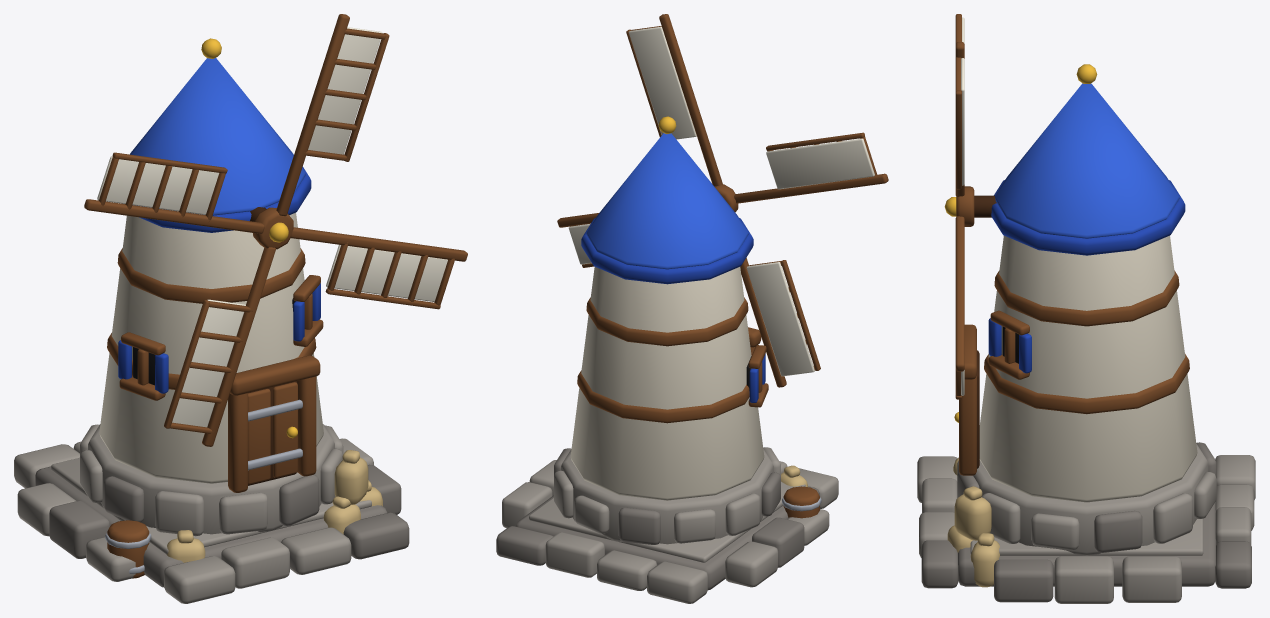
The model's file is Mill.glb.
The picture shows the model from 3 angles, left to right: view 1: azimuth 30°, elevation 25°; view 2: azimuth 150°, elevation 25°; view 3: azimuth 270°, elevation 25°; orthographic projection. The views are drawn at different scales.
Visible parts, largest first — view 1: Mill; view 2: Mill; view 3: Mill.
Part boxes in pixels (x1,y1,x2,y2): Mill: (14, 14, 467, 603); Mill: (496, 14, 888, 603); Mill: (917, 14, 1255, 603).
Size of the model in its own units: 3.35 by 4.47 by 2.62.
